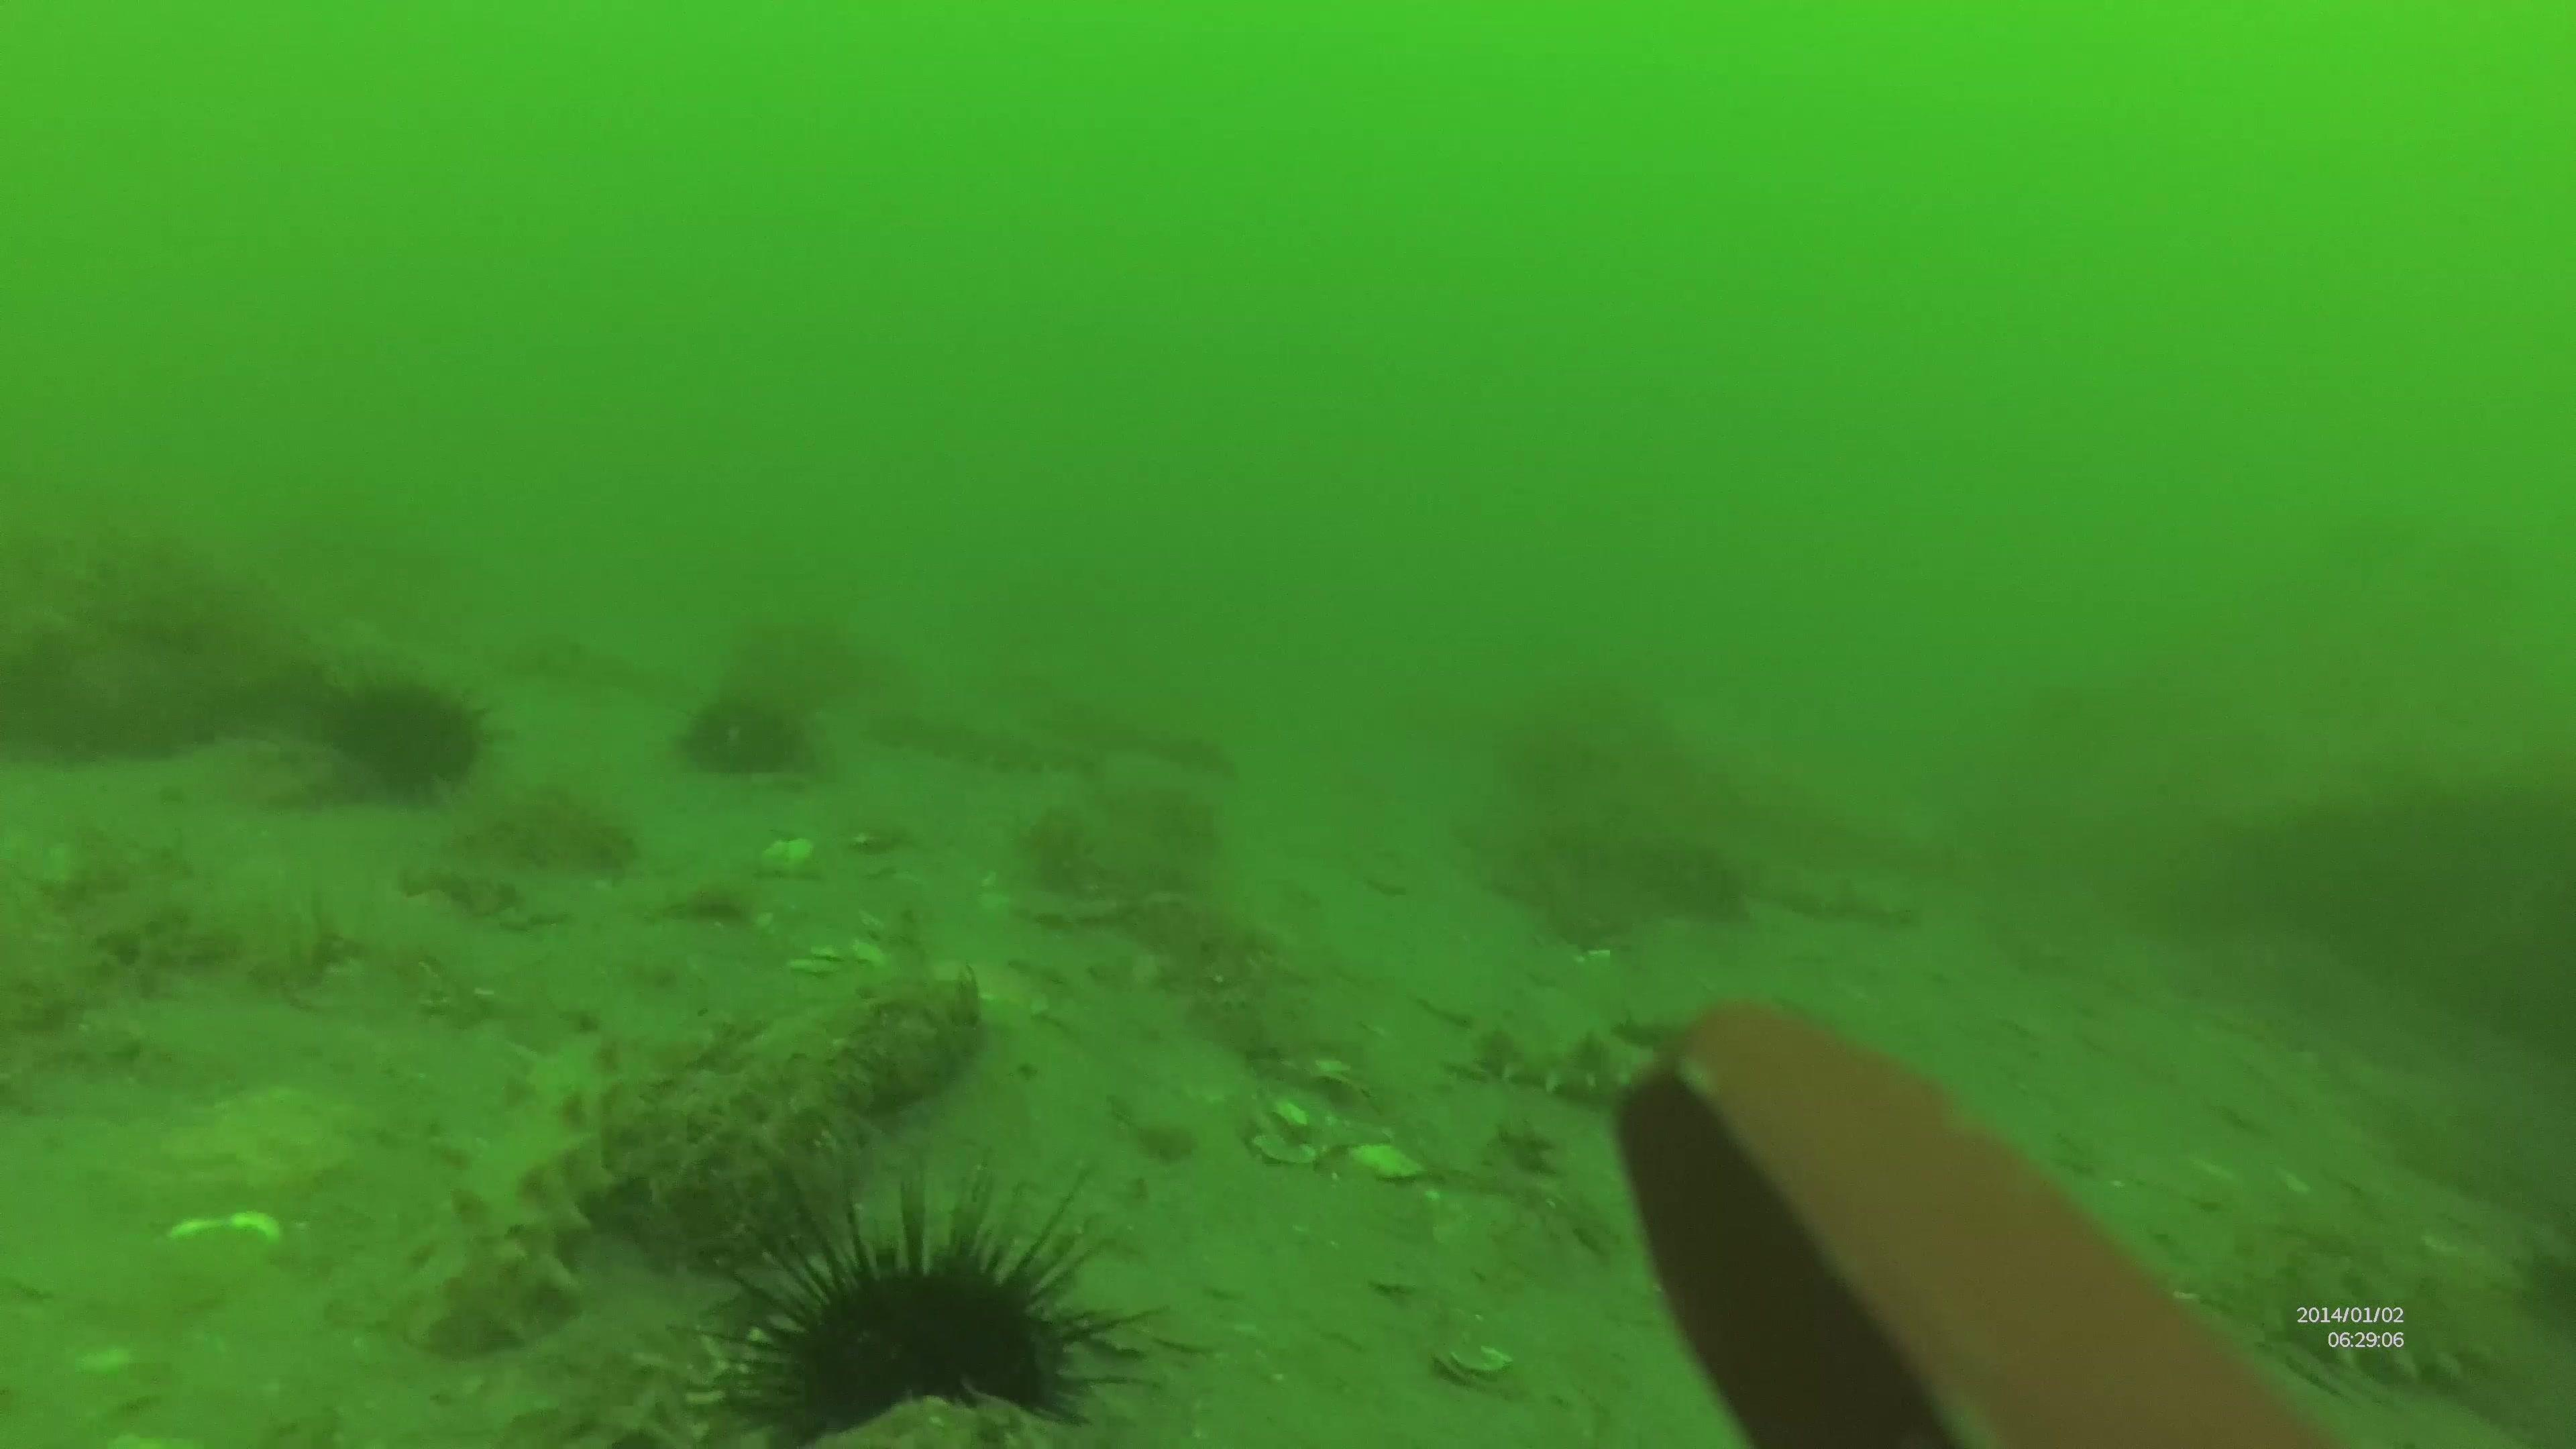echinus: (690, 1166, 1164, 1449), (322, 663, 499, 793), (679, 685, 819, 784)
holothurian: (384, 1005, 633, 1357), (2259, 1214, 2548, 1378), (1460, 1001, 1831, 1120), (876, 706, 1113, 786)
